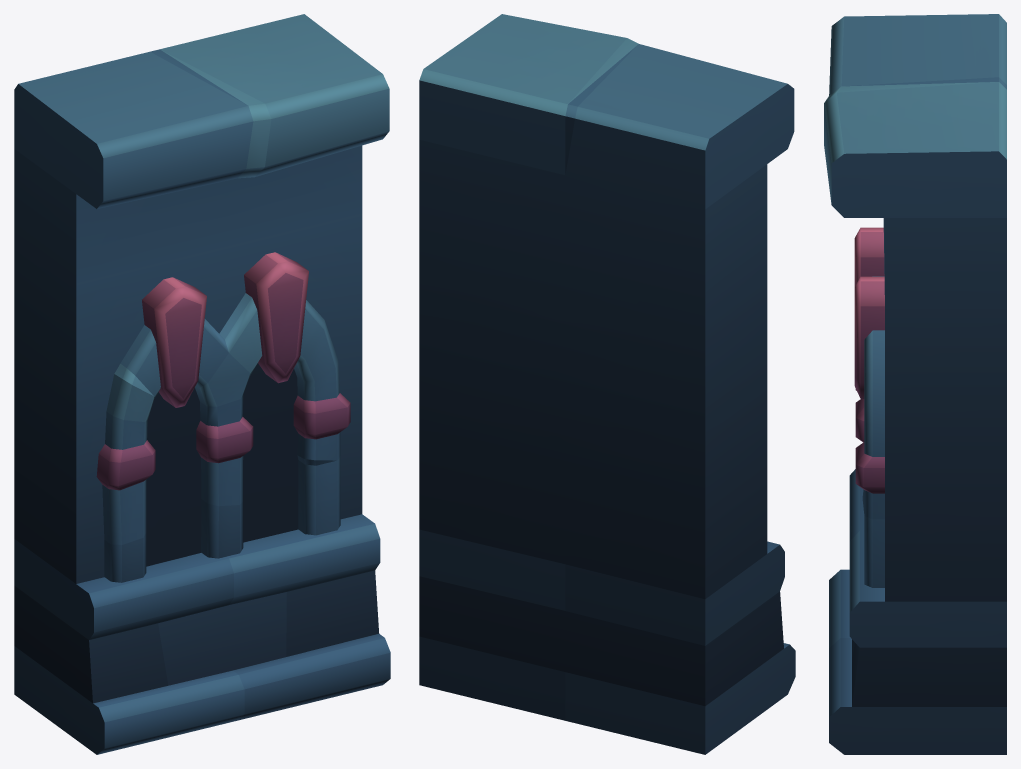
File: wall_element_tileable_deco1_2meters.fbx
3 views of the same model, side by side, from view 1: azimuth 30°, elevation 25°; view 2: azimuth 150°, elevation 25°; view 3: azimuth 270°, elevation 25° (orthographic).
Parts seen in each view (by area): view 1: wall_element_tileable_deco1_2meters; view 2: wall_element_tileable_deco1_2meters; view 3: wall_element_tileable_deco1_2meters.
Part boxes in pixels (x1,y1,x2,y2): wall_element_tileable_deco1_2meters: (14,14,390,754); wall_element_tileable_deco1_2meters: (419,14,795,754); wall_element_tileable_deco1_2meters: (824,14,1006,754).
Bounding box in the file's own units: 200 × 410 × 113.
